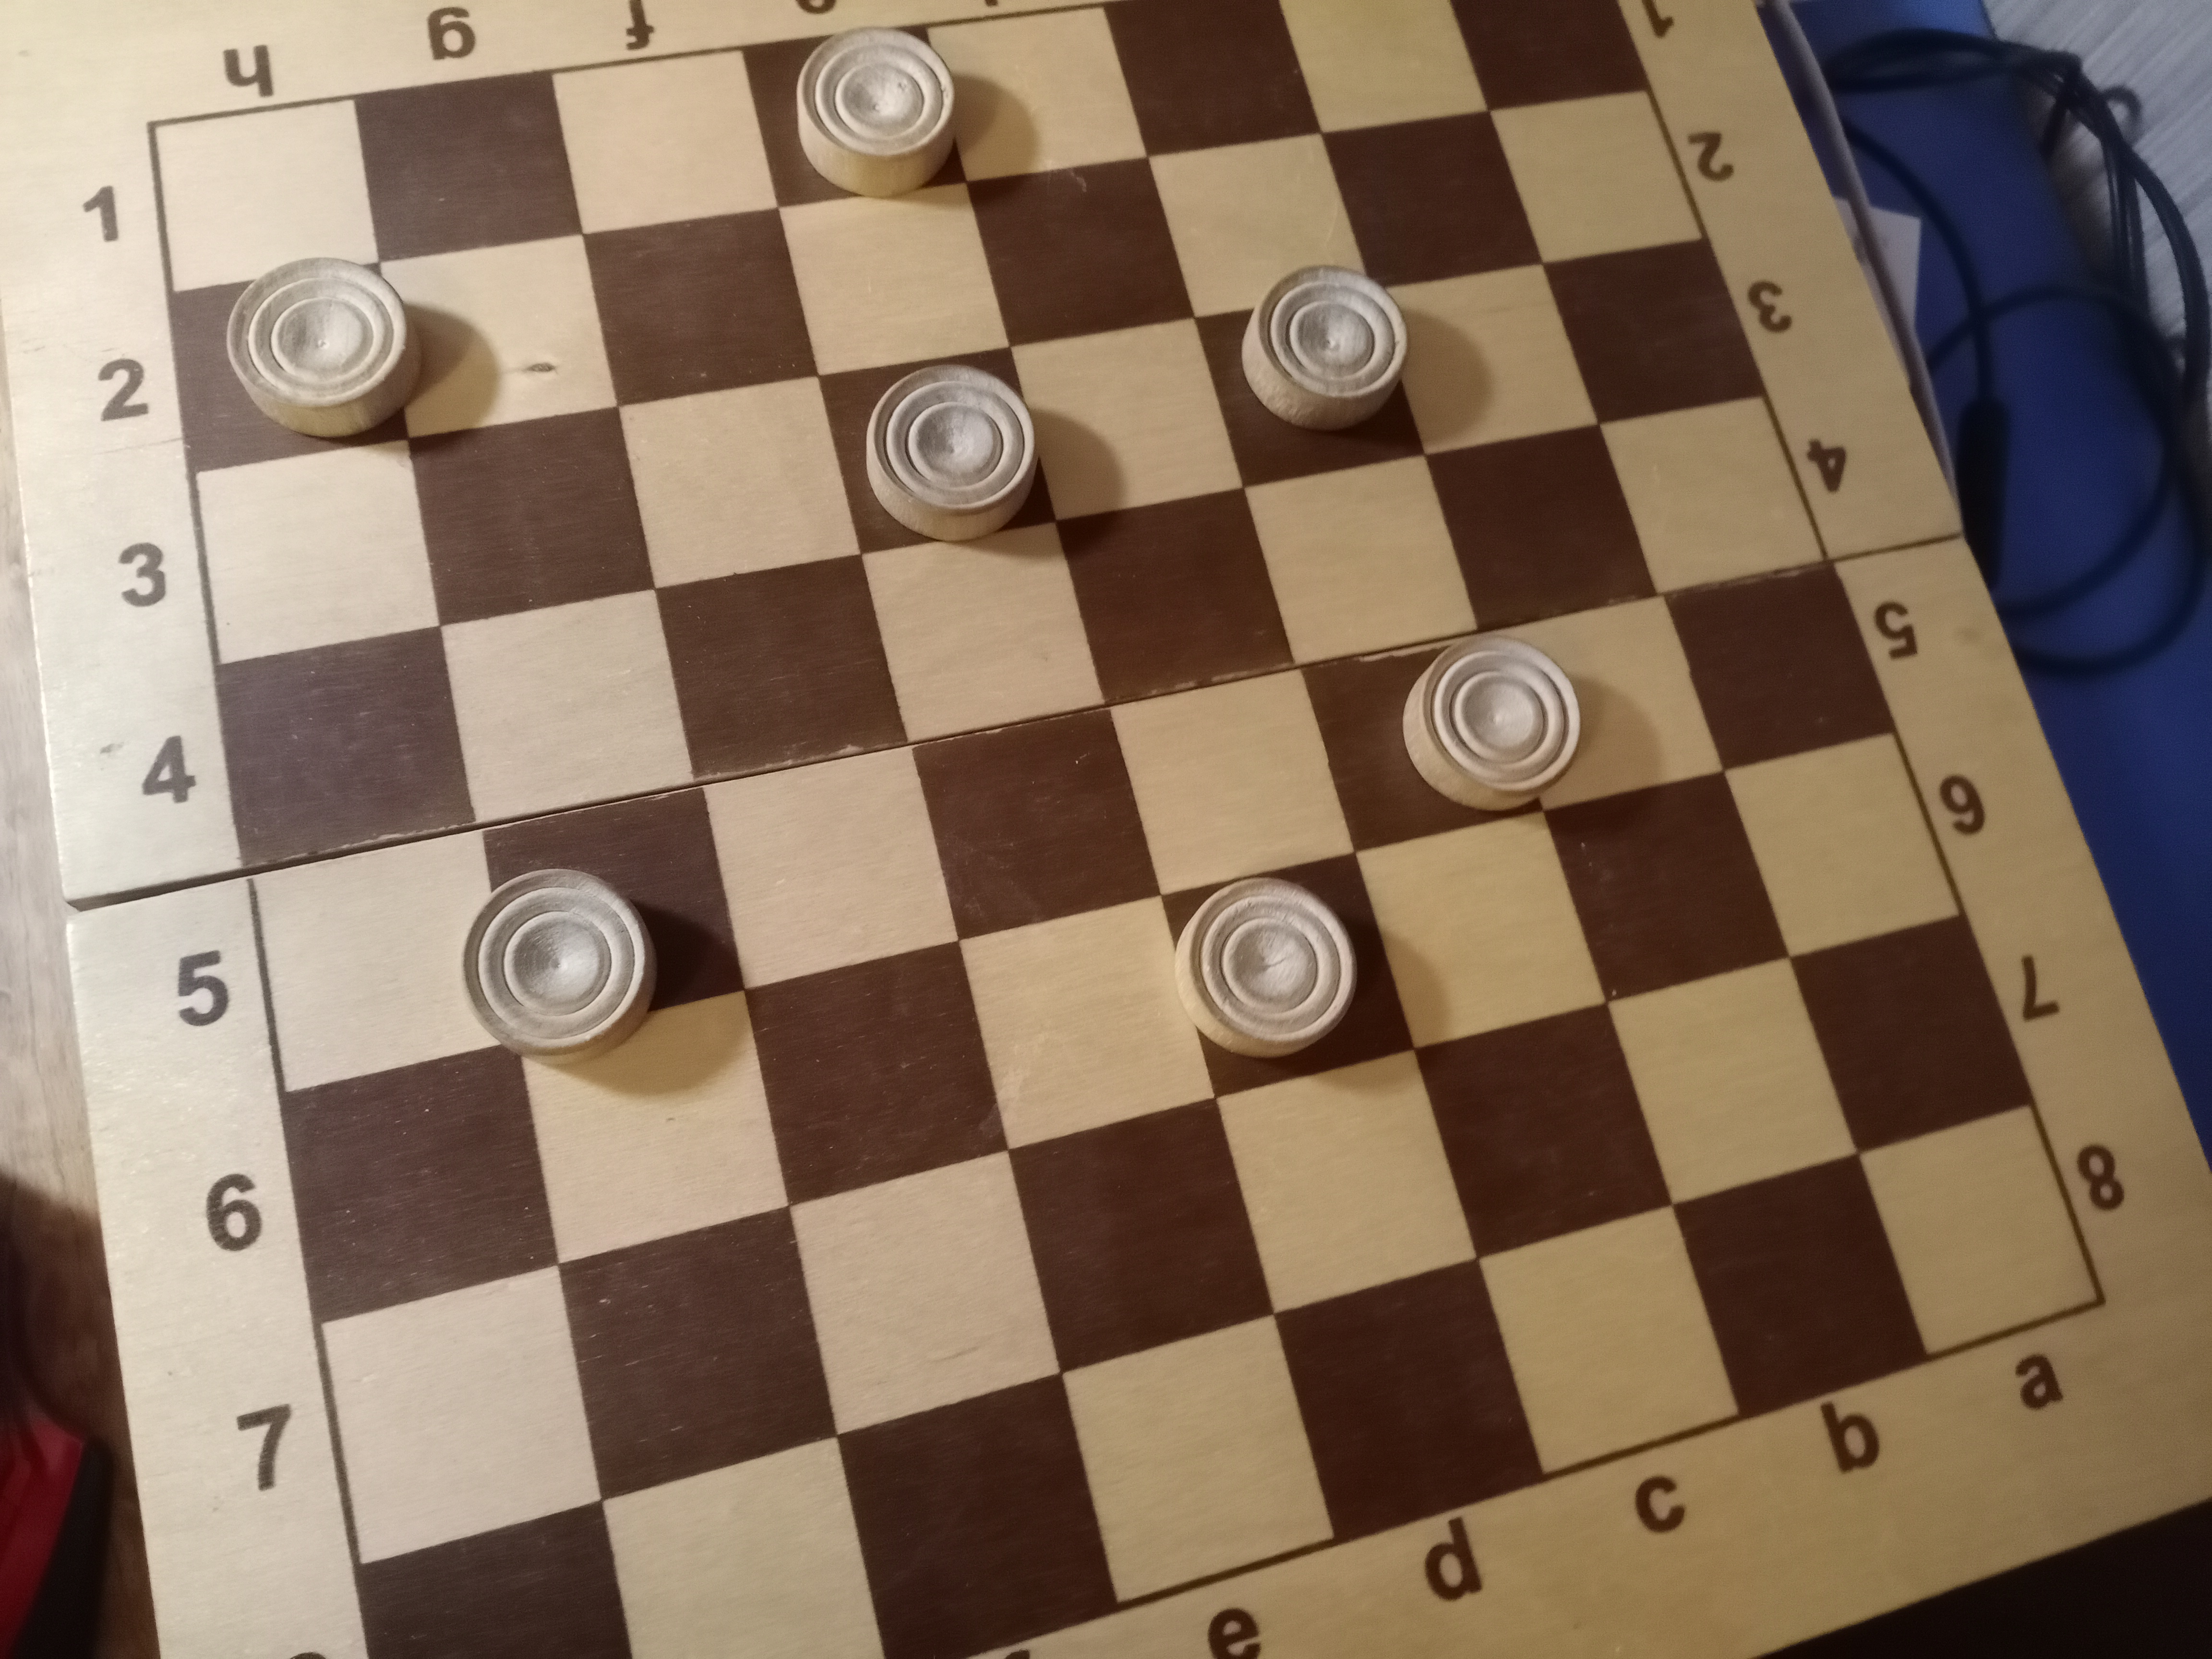White_Draught: (462, 789, 742, 1063), (1299, 633, 1581, 852), (1163, 854, 1414, 1096), (172, 258, 421, 471), (1197, 265, 1426, 488), (819, 347, 1055, 554), (747, 26, 967, 209)
